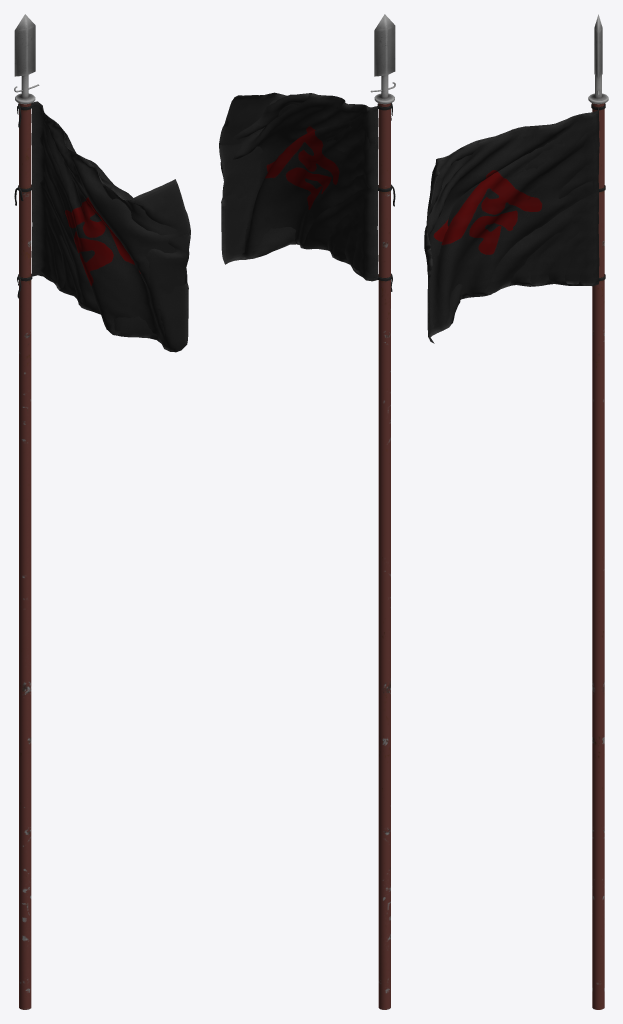
The model's file is SM_Flag_Wind_1.fbx.
3 renders of one model, left to right at view 1: azimuth 30°, elevation 25°; view 2: azimuth 210°, elevation 25°; view 3: azimuth 270°, elevation 25°, orthographic.
Visible parts, largest first — view 1: SM_Flag_Wind_1; view 2: SM_Flag_Wind_1; view 3: SM_Flag_Wind_1.
Boxes of the visible parts, x1,y1,x2,y2 form: SM_Flag_Wind_1: [14, 14, 190, 1009]; SM_Flag_Wind_1: [219, 14, 395, 1009]; SM_Flag_Wind_1: [424, 14, 608, 1009].
Size of the model in its own units: 45.79 by 80.32 by 477.
1 material, 1 textured.
